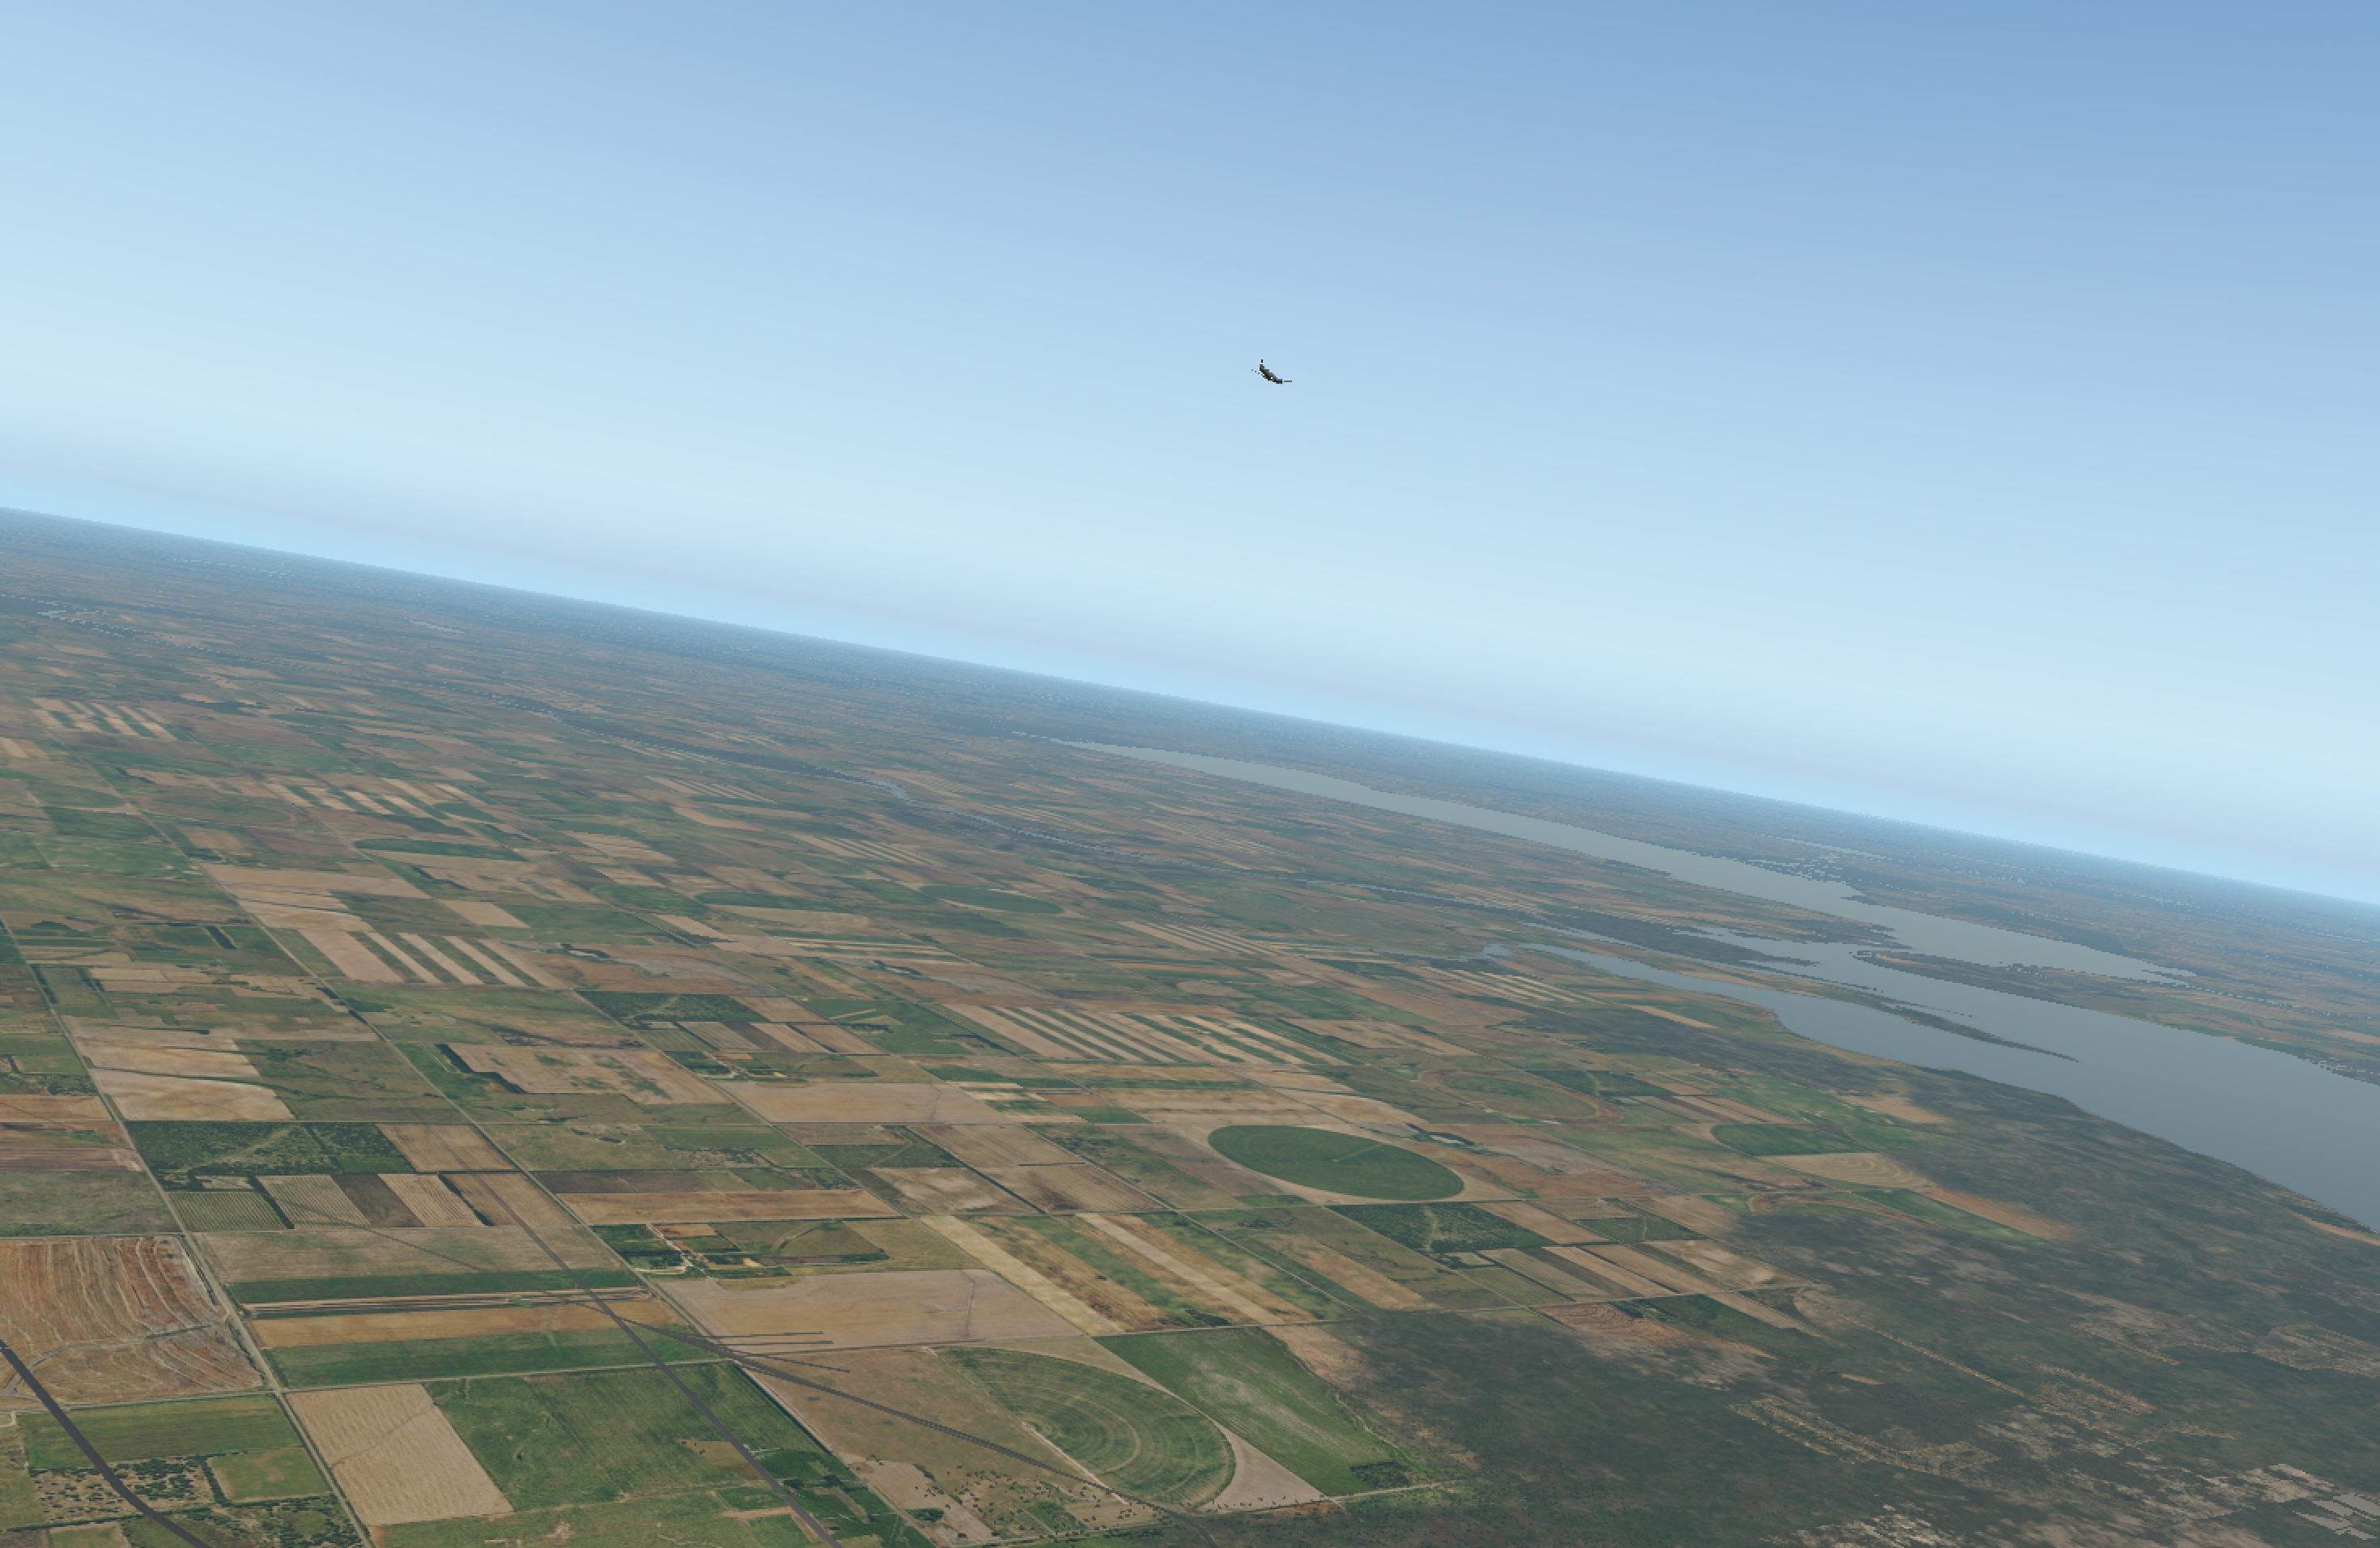aircraft: (1244, 370, 1299, 390)
